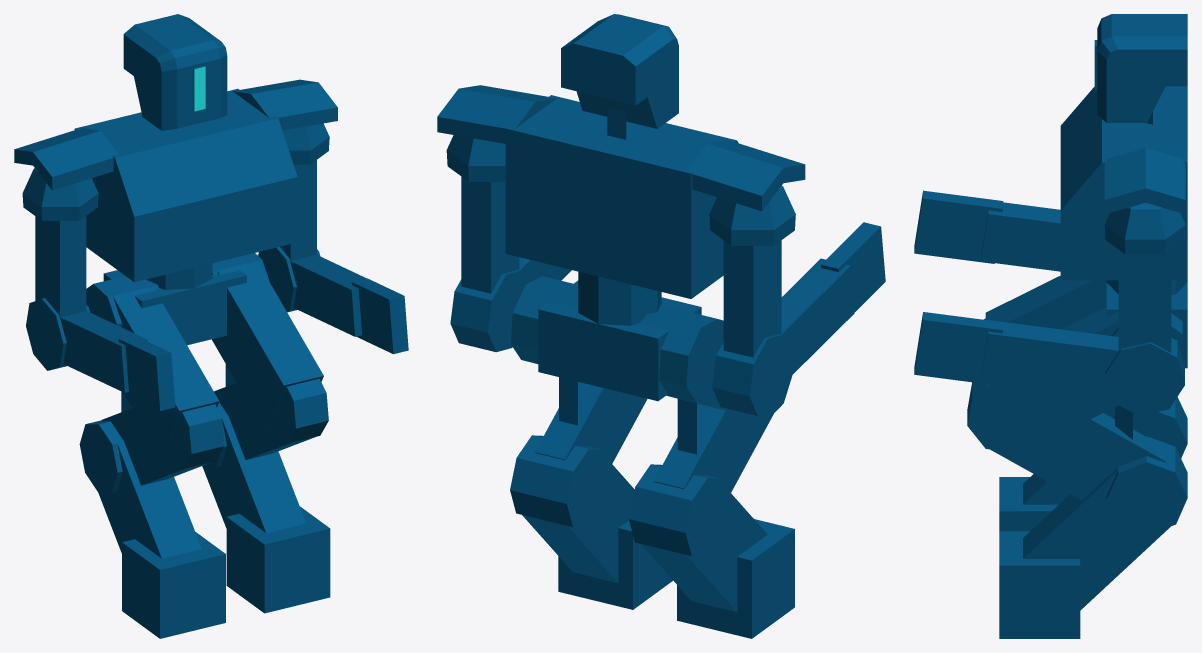
Rendered from robot_1.glb.
3 renders of one model, left to right at view 1: azimuth 30°, elevation 25°; view 2: azimuth 150°, elevation 25°; view 3: azimuth 270°, elevation 25°, orthographic. The views are drawn at different scales.
Parts seen in each view (by area): view 1: bot_blue.001; view 2: bot_blue.001; view 3: bot_blue.001.
Boxes of the visible parts, left/top/right/bottom form: bot_blue.001: left=14, top=14, right=408, bottom=638; bot_blue.001: left=437, top=14, right=885, bottom=638; bot_blue.001: left=914, top=14, right=1187, bottom=638.
Bounding box in the file's own units: 2.07 × 3.68 × 1.6.
